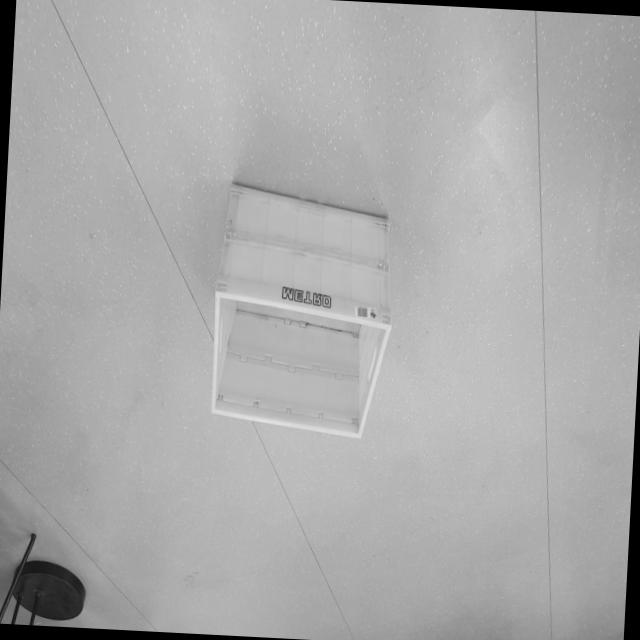box: (194, 173, 406, 450)
